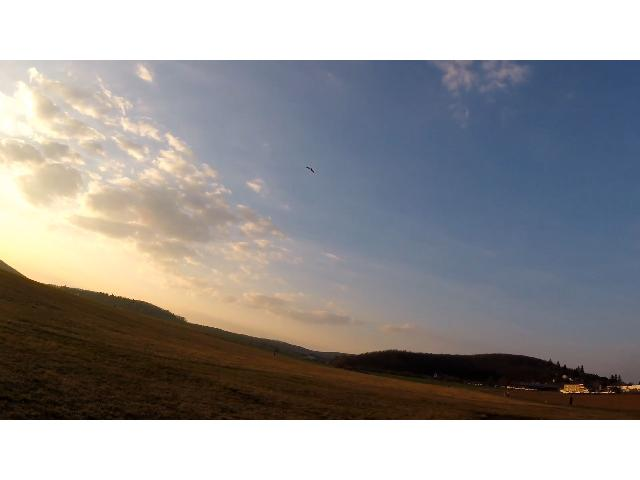Anti-Drone: (300, 160, 320, 180)
